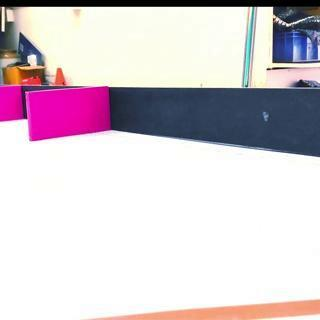xparking: (26, 92, 110, 134), (2, 85, 20, 120)
